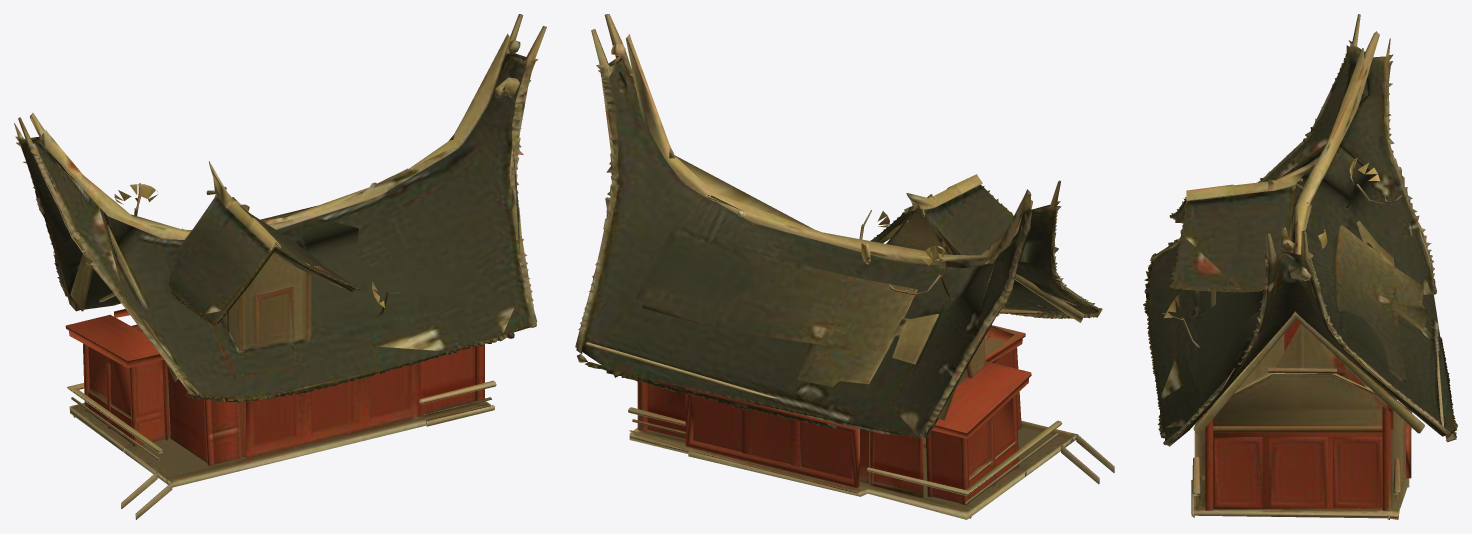
The model's file is minang_rumah_gadang.glb.
The picture shows the model from 3 angles, left to right: view 1: azimuth 30°, elevation 25°; view 2: azimuth 150°, elevation 25°; view 3: azimuth 270°, elevation 25°; orthographic projection. The views are drawn at different scales.
Visible parts, largest first — view 1: Body; view 2: Body, Trim; view 3: Body, Trim.
Boxes of the visible parts, x1=… form: Body: x1=14, y1=14, x2=546, y2=519; Body: x1=575, y1=14, x2=1114, y2=519; Trim: x1=611, y1=46, x2=991, y2=277; Body: x1=1143, y1=14, x2=1457, y2=519; Trim: x1=1164, y1=148, x2=1380, y2=317.
Size of the model in its own units: 12.15 by 8.59 by 7.04.
2 materials, 2 textured.
